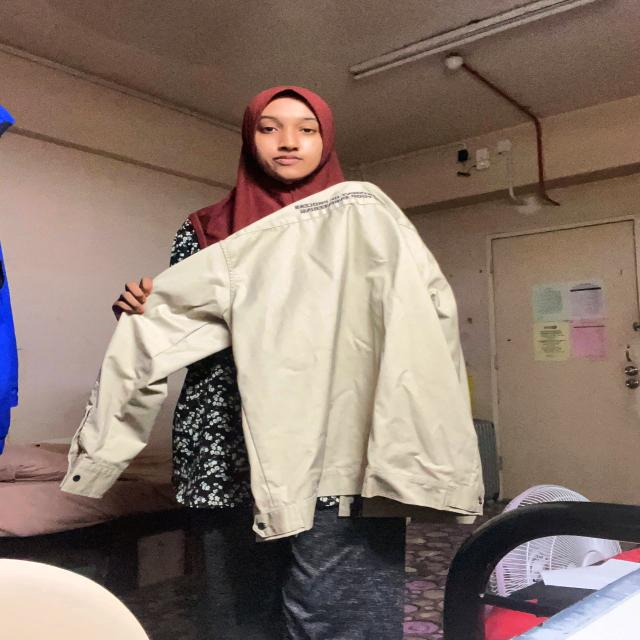person_without_labcoat: (61, 86, 484, 640)
